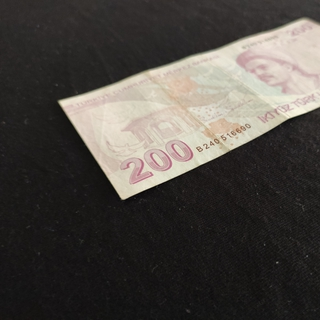200TLBack: (58, 15, 320, 200)
